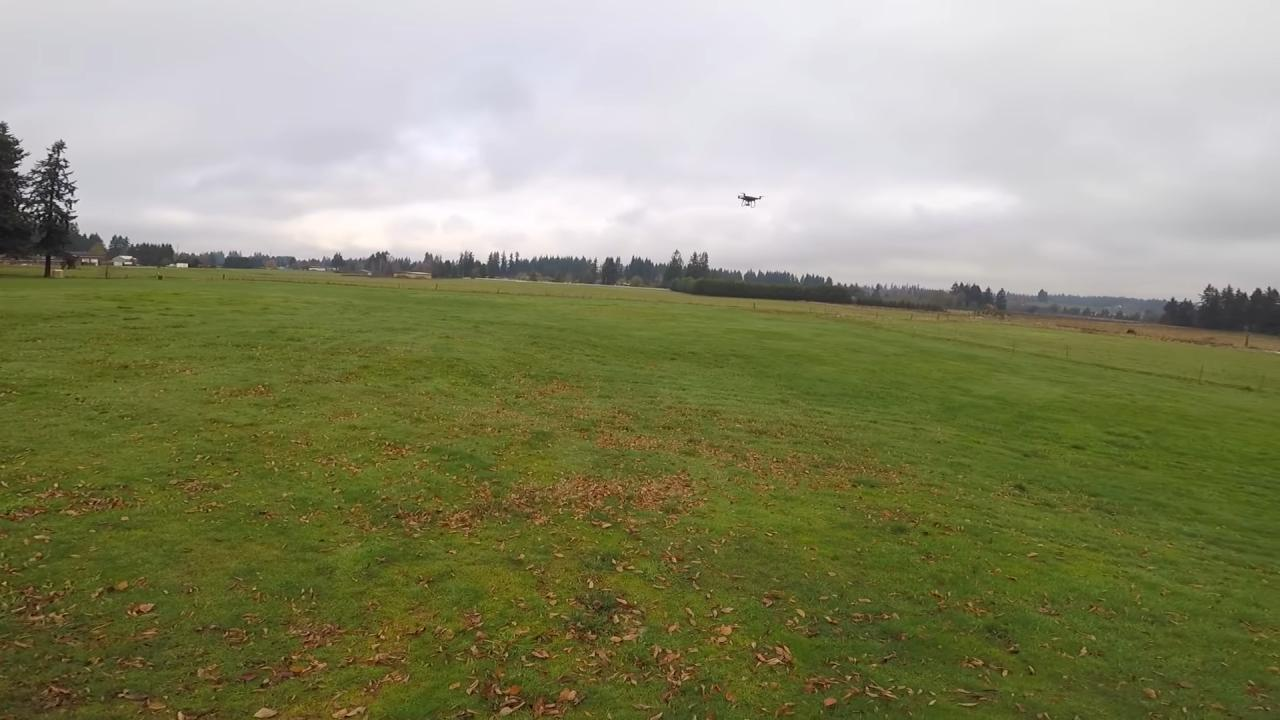Drone: (727, 186, 770, 216)
